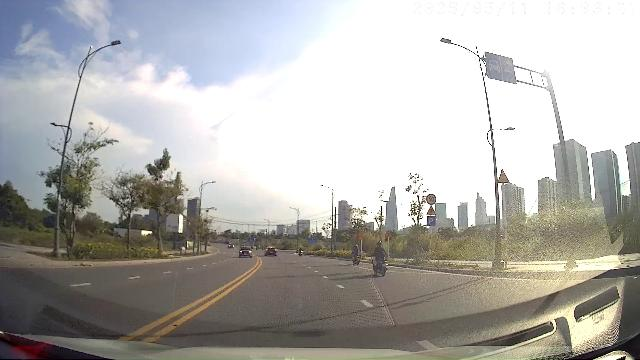127-toc-do-toi-da-50: (426, 194, 437, 205)
